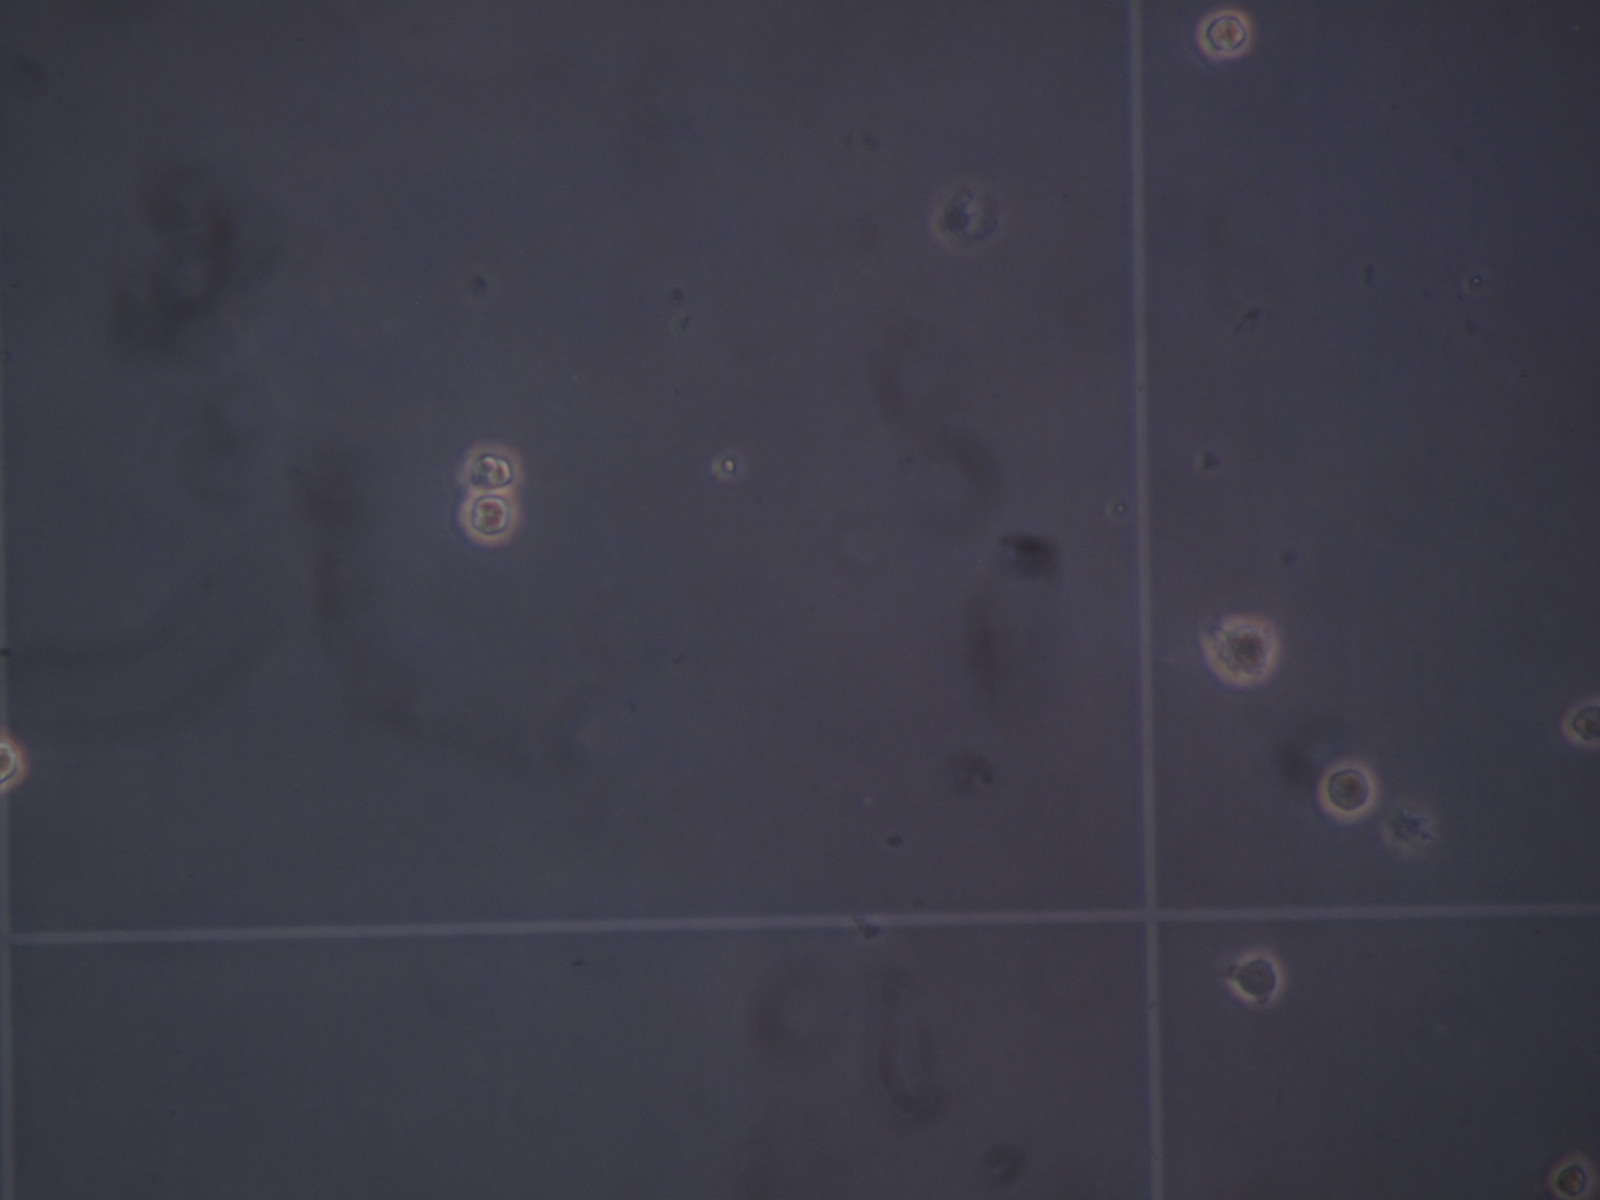hemo: (1204, 616, 1279, 686), (1318, 759, 1377, 821), (461, 441, 523, 494), (459, 492, 519, 545), (1196, 8, 1254, 61), (1228, 950, 1283, 1005), (1548, 1156, 1596, 1200), (1562, 697, 1600, 747), (1, 725, 26, 795)
